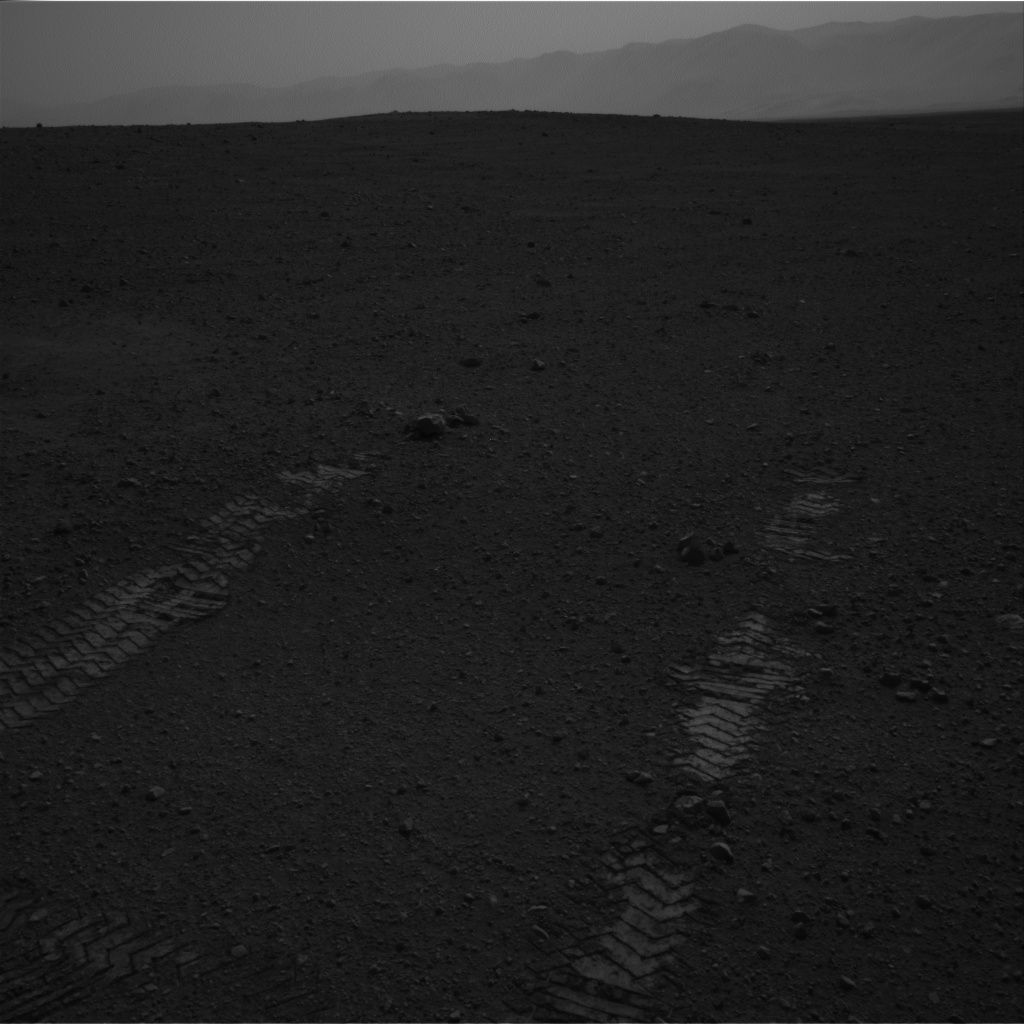soil: (4, 173, 1019, 1019)
